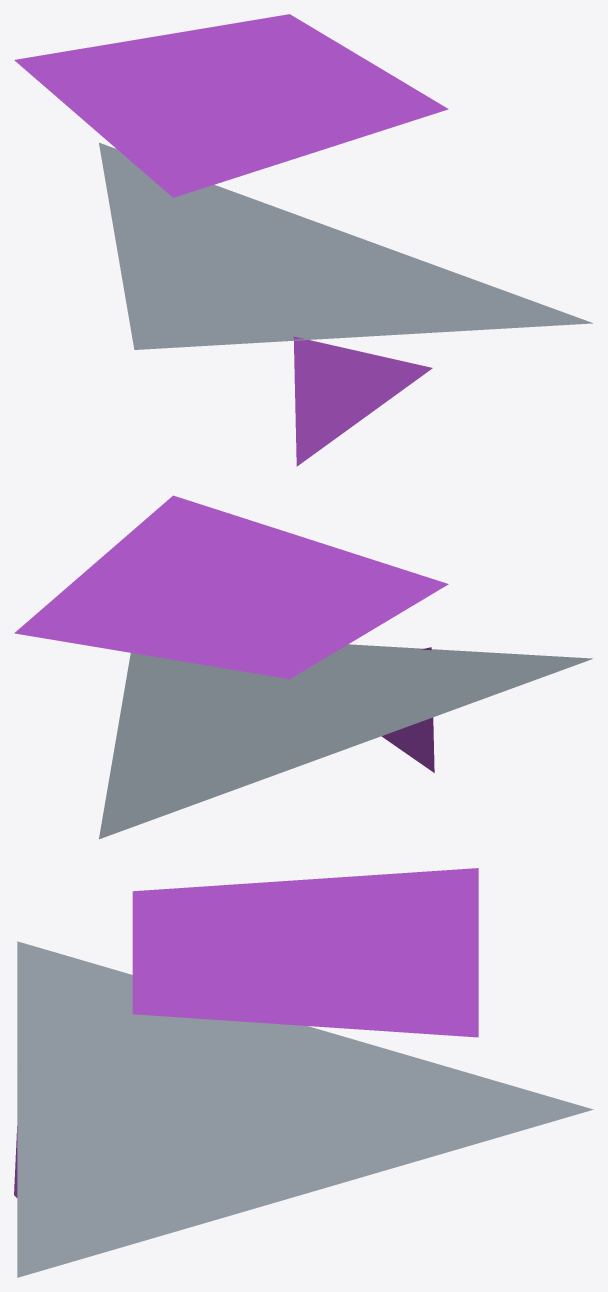
File: CH_Barracks_LOD2.glb
The picture shows the model from 3 angles, top to bottom: view 1: azimuth 30°, elevation 25°; view 2: azimuth 150°, elevation 25°; view 3: azimuth 270°, elevation 25°; orthographic projection. The views are drawn at different scales.
Visible parts, largest first — view 1: EntranceGate; view 2: EntranceGate; view 3: EntranceGate.
Boxes of the visible parts, x1,y1,x2,y2 form: EntranceGate: (14, 14, 592, 466); EntranceGate: (14, 495, 592, 839); EntranceGate: (14, 868, 593, 1277).
Size of the model in its own units: 600 by 333 by 603.
